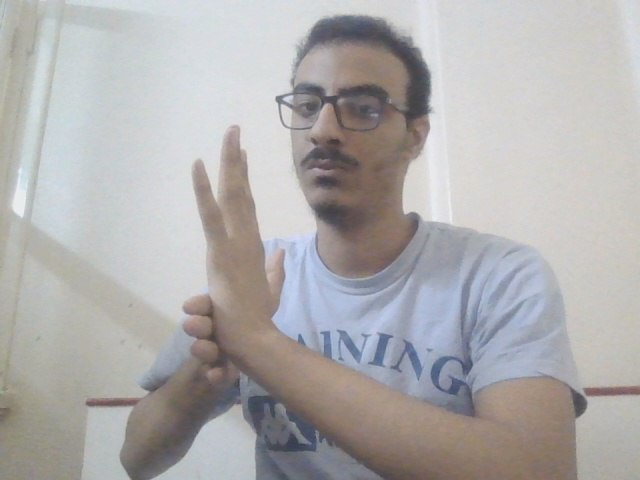Movie: (165, 115, 301, 405)
